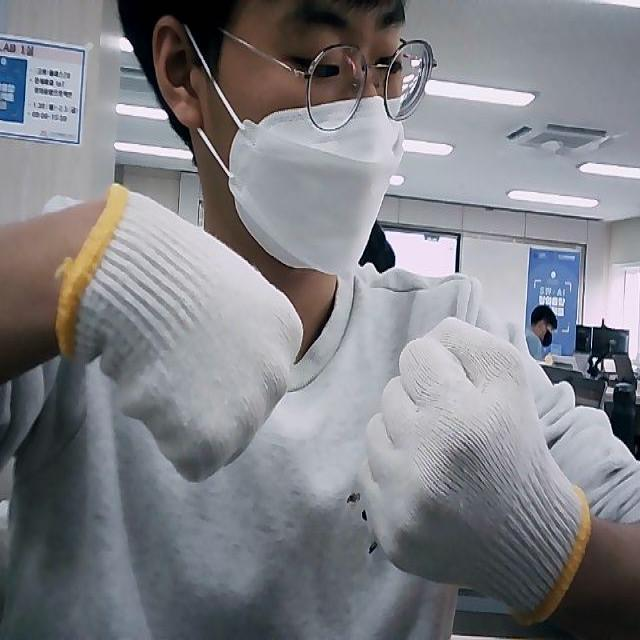gloves: (55, 180, 306, 479), (358, 312, 594, 624)
